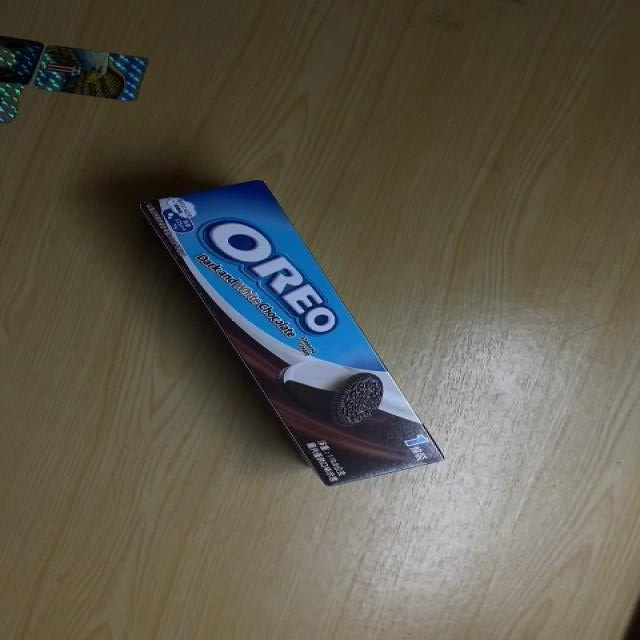Oreo: (124, 178, 448, 488)
